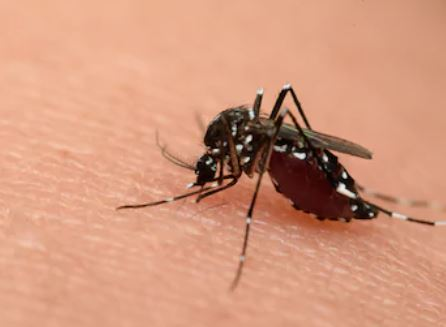dengue_mosquito: (126, 83, 430, 231)
